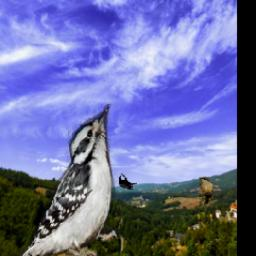Crow: (119, 172, 138, 190)
Cuckoo: (199, 177, 214, 205)
Woodpecker: (12, 105, 121, 256)
